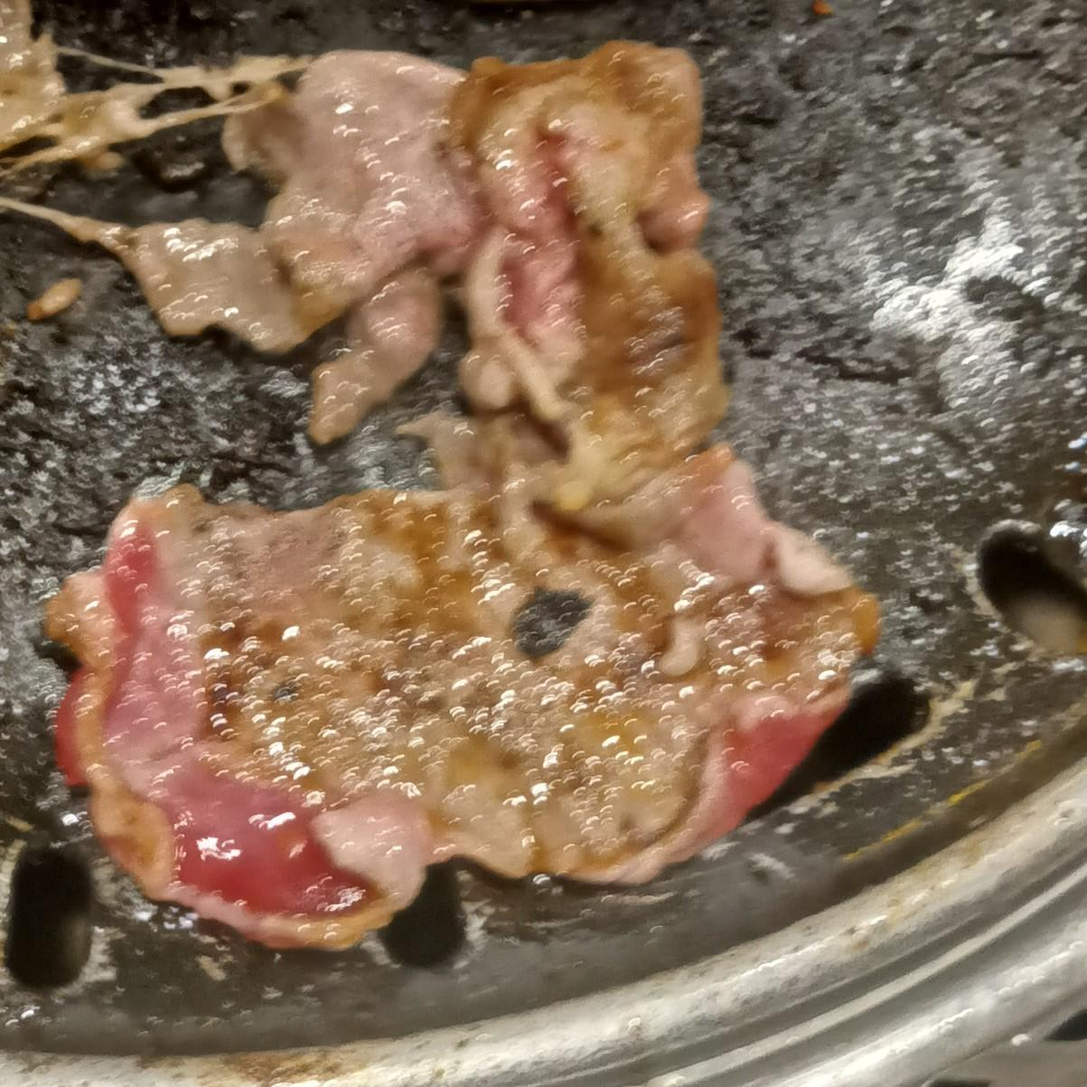Undercooked: (43, 42, 878, 965)
